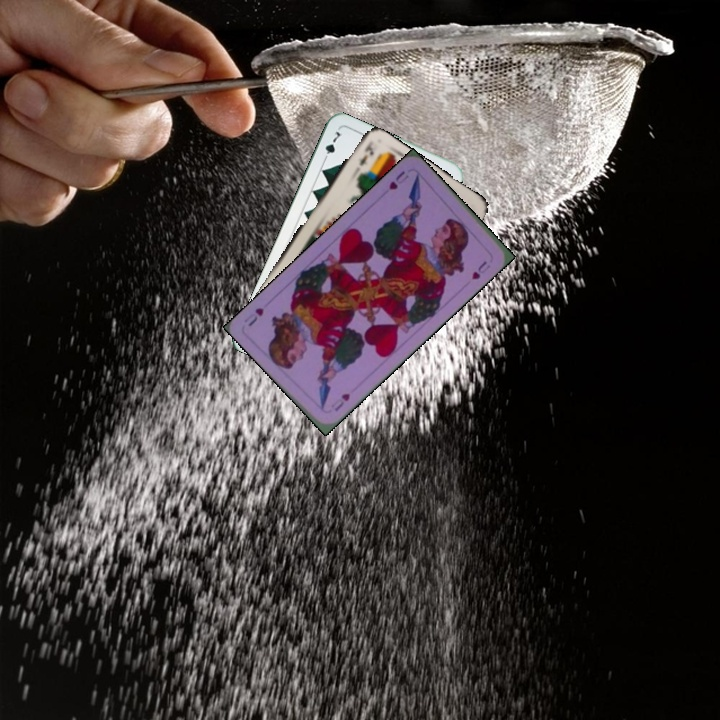EK: (355, 139, 376, 169)
G7: (319, 127, 345, 165)
HU: (385, 166, 412, 192), (329, 389, 353, 414)
